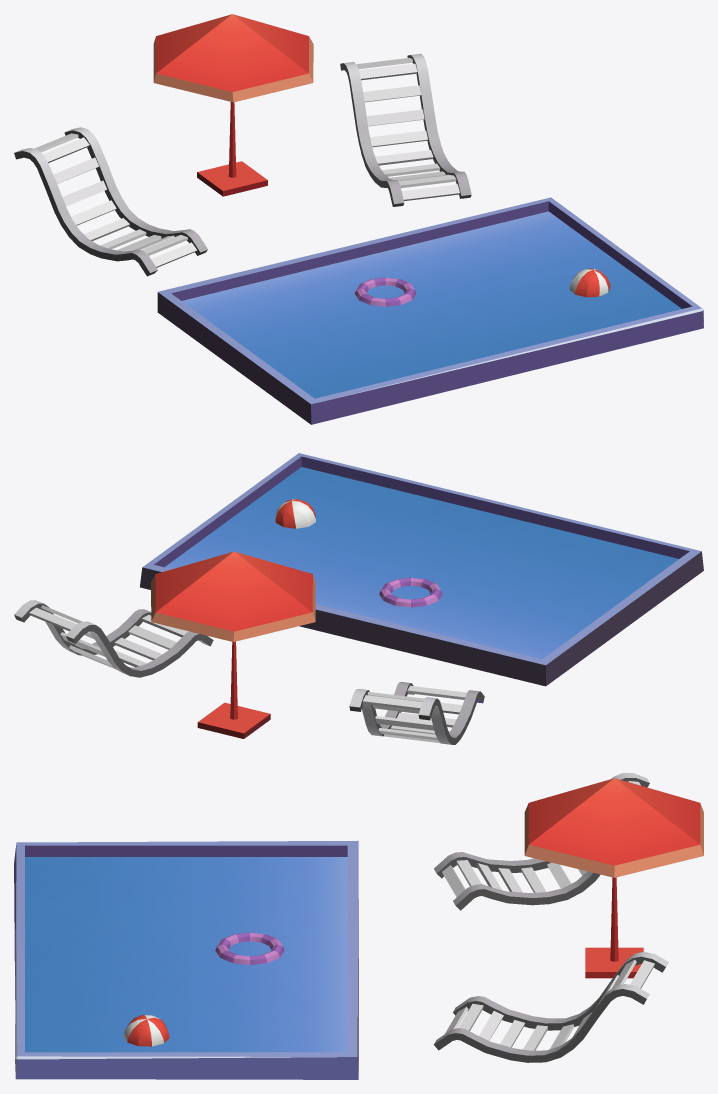
Rendered from SM_Pool.fbx.
The picture shows the model from 3 angles, top to bottom: view 1: azimuth 30°, elevation 25°; view 2: azimuth 150°, elevation 25°; view 3: azimuth 270°, elevation 25°; orthographic projection. The views are drawn at different scales.
Visible parts, largest first — view 1: SM_Pool; view 2: SM_Pool; view 3: SM_Pool.
Boxes of the visible parts, x1,y1,x2,y2 form: SM_Pool: [14, 14, 703, 424]; SM_Pool: [14, 453, 703, 744]; SM_Pool: [14, 773, 703, 1079].
Size of the model in its own units: 546 by 215 by 709.
